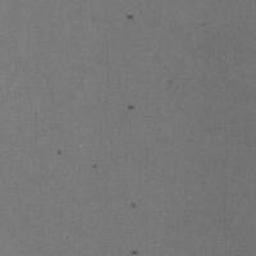Inclusion: (165, 78, 182, 91), (131, 202, 138, 210)
